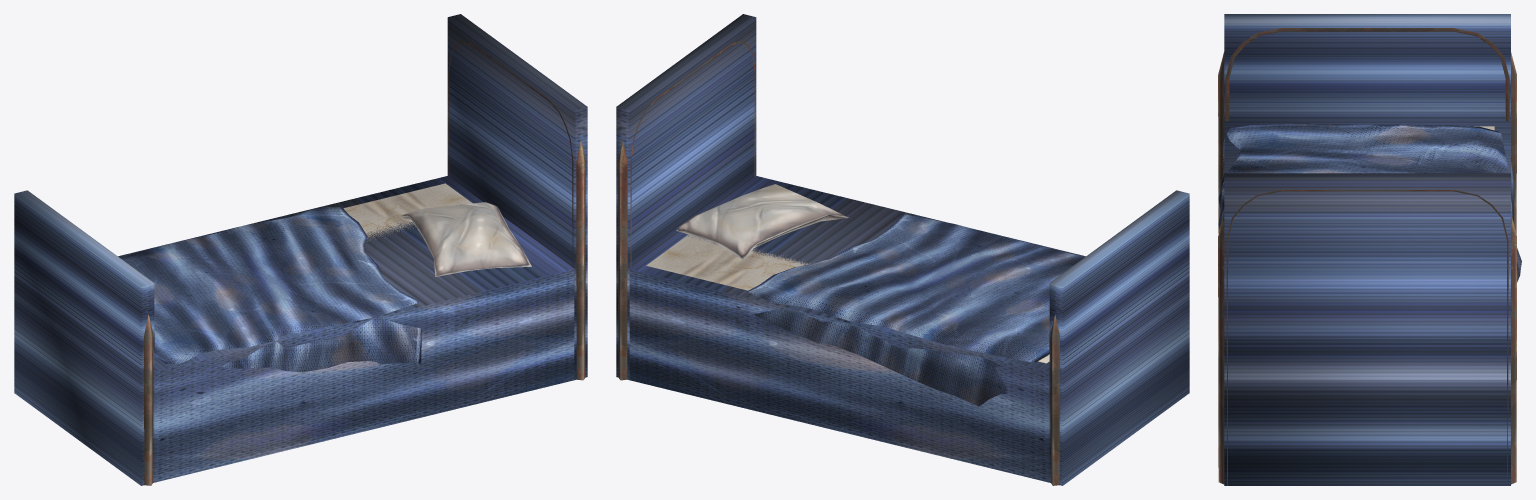
The model's file is bed07.fbx.
3 renders of one model, left to right at view 1: azimuth 30°, elevation 25°; view 2: azimuth 150°, elevation 25°; view 3: azimuth 270°, elevation 25°, orthographic. The views are drawn at different scales.
Parts seen in each view (by area): view 1: bed07_COL, bed07; view 2: bed07_COL, bed07; view 3: bed07_COL, bed07.
Boxes of the visible parts, left/top/right/bottom form: bed07_COL: left=14, top=14, right=587, bottom=485; bed07: left=119, top=40, right=585, bottom=485; bed07_COL: left=616, top=14, right=1189, bottom=485; bed07: left=618, top=40, right=1083, bottom=485; bed07_COL: left=1224, top=14, right=1510, bottom=485; bed07: left=1218, top=28, right=1521, bottom=485.
Bounding box in the file's own units: 2.16 × 1.25 × 1.12.
